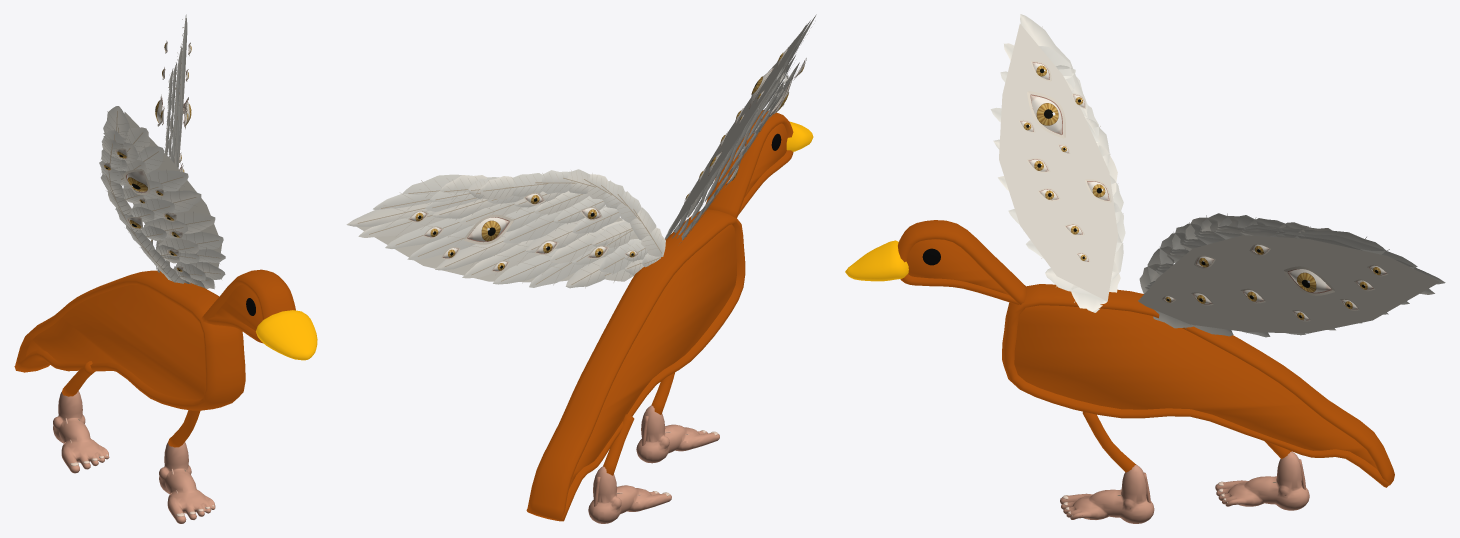
The model's file is bird.glb.
The picture shows the model from 3 angles, left to right: view 1: azimuth 30°, elevation 25°; view 2: azimuth 150°, elevation 25°; view 3: azimuth 270°, elevation 25°; orthographic projection. The views are drawn at different scales.
Visible parts, largest first — view 1: Bird_Game; view 2: Bird_Game; view 3: Bird_Game.
Boxes of the visible parts, left/top/right/bottom form: Bird_Game: left=14, top=14, right=317, bottom=523; Bird_Game: left=346, top=14, right=816, bottom=523; Bird_Game: left=845, top=14, right=1445, bottom=523.
Size of the model in its own units: 3.68 by 5.7 by 6.85.
